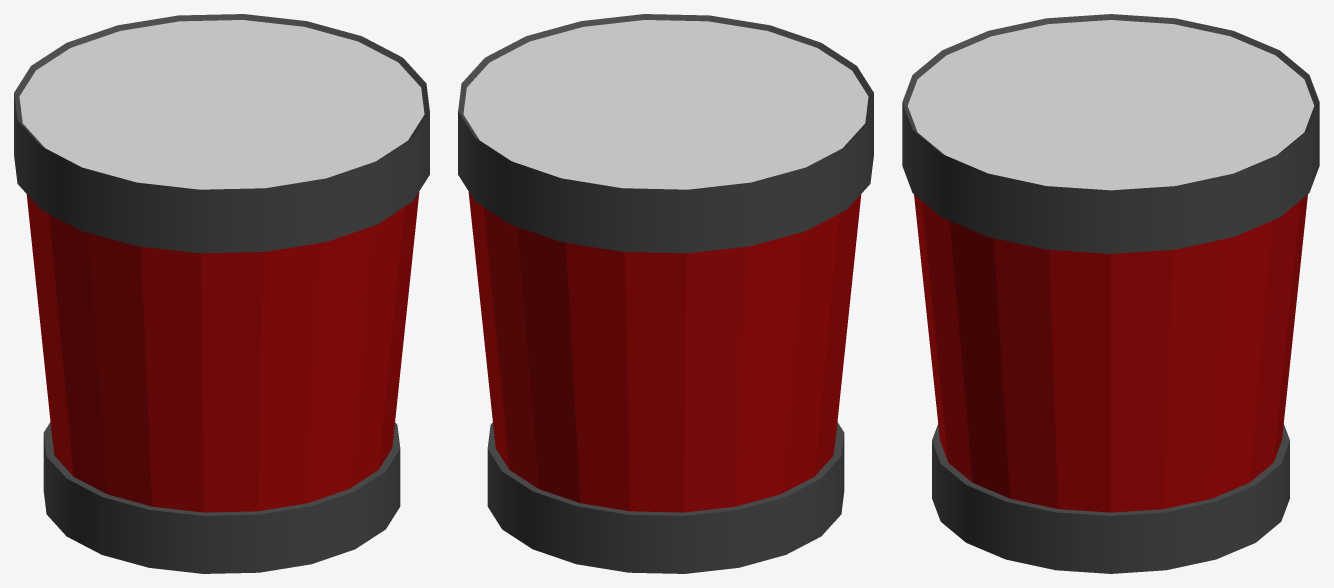
The model's file is drum.fbx.
3 renders of one model, left to right at view 1: azimuth 30°, elevation 25°; view 2: azimuth 150°, elevation 25°; view 3: azimuth 270°, elevation 25°, orthographic.
Parts seen in each view (by area): view 1: pCylinder1; view 2: pCylinder1; view 3: pCylinder1.
Part boxes in pixels (box(x1,y1,x2,y2)): pCylinder1: box(14, 14, 429, 573); pCylinder1: box(458, 14, 873, 573); pCylinder1: box(902, 14, 1319, 573).
Bounding box in the file's own units: 23.48 × 24.59 × 23.48.
